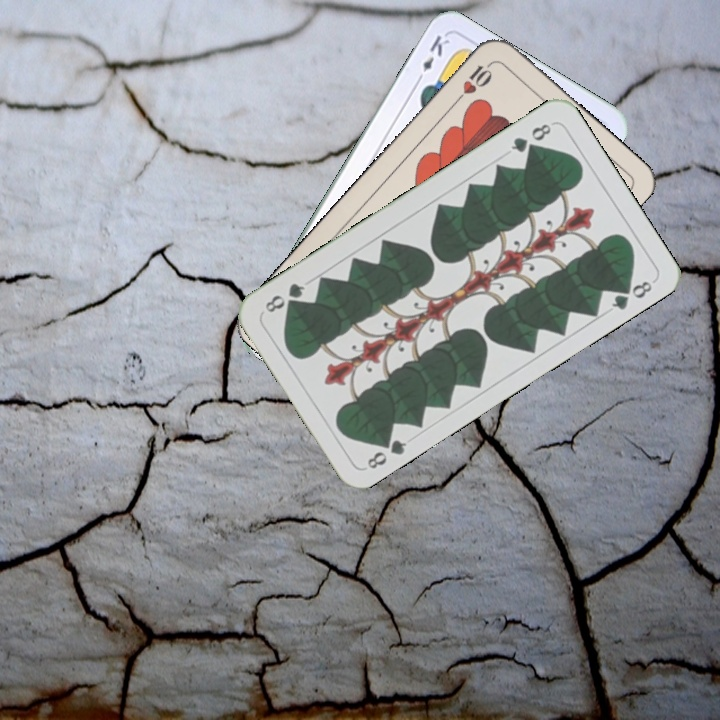EK: (412, 31, 452, 86)
G8: (363, 432, 409, 472), (507, 119, 554, 156)
H10: (451, 58, 496, 106)
